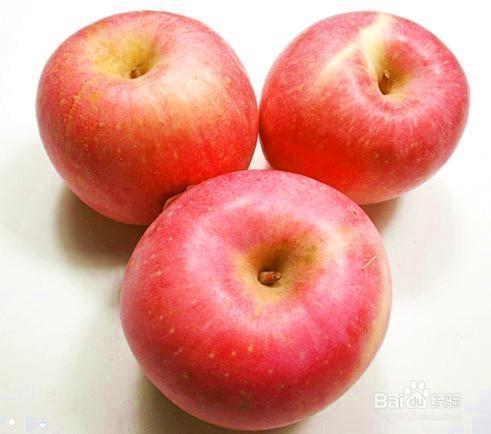apple: (122, 173, 395, 430), (32, 12, 263, 236), (262, 7, 475, 205)
